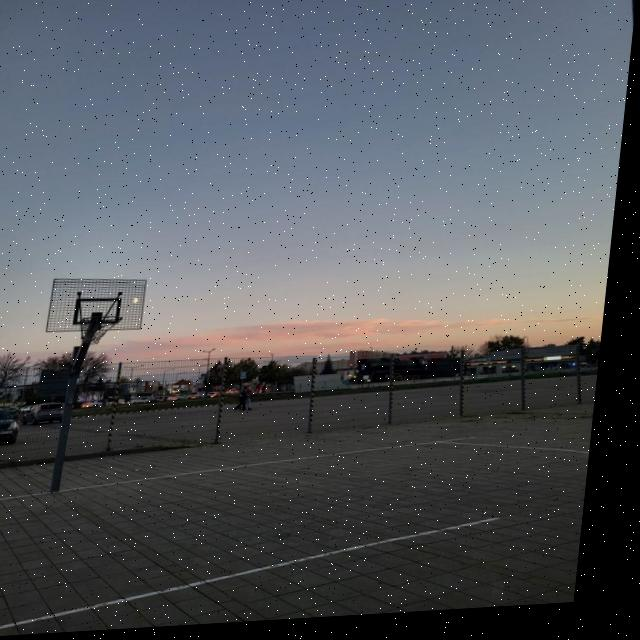hoop: (70, 298, 146, 359)
